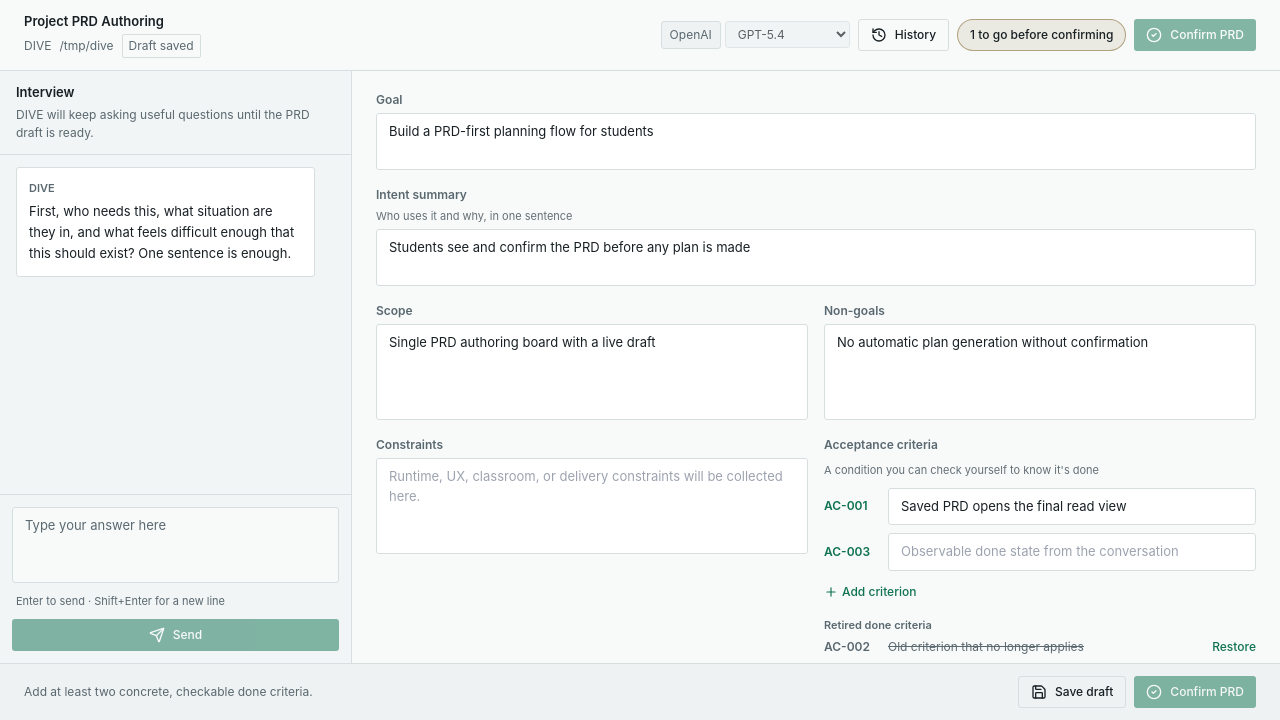
Test: PrdAuthoringBoard › retired acceptance criteria (S-074 review A) › restores a retired criterion through the student-edit path and satisfies the gate
Click the button with test id "prd-restore-criterion-AC-002". click: (1234, 647)
box: left=1212, top=638, right=1256, bottom=656
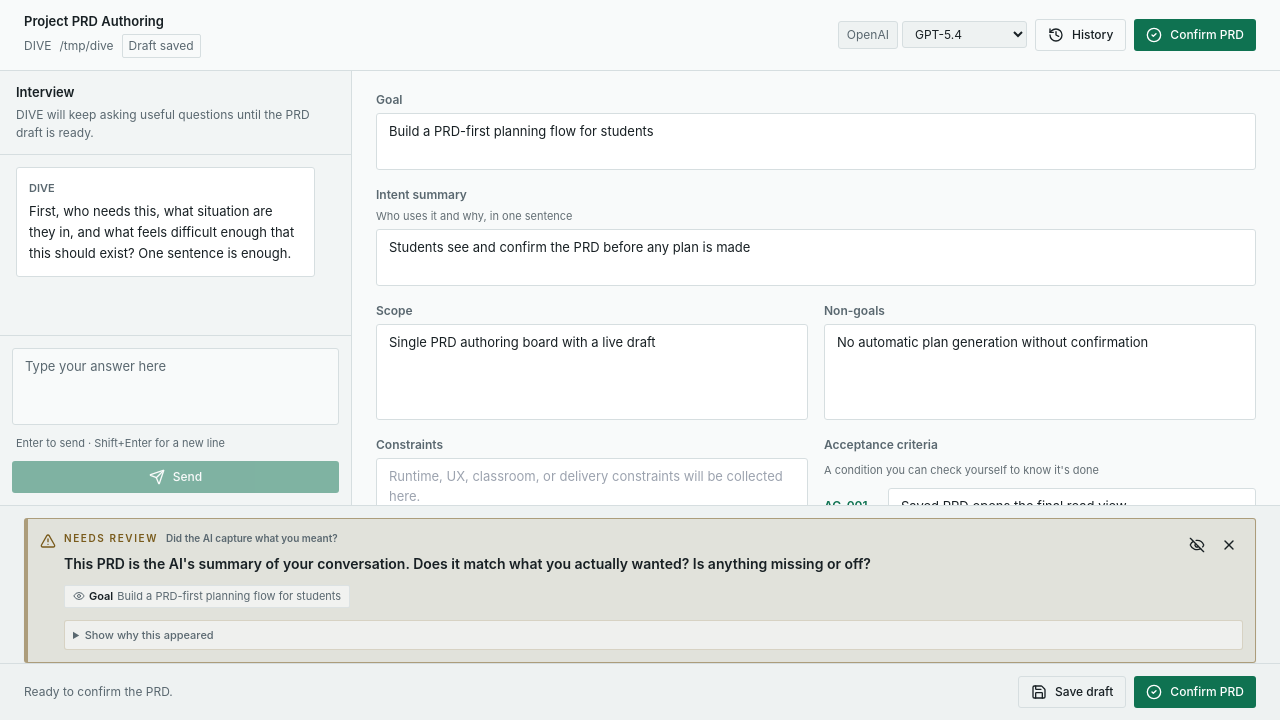
Expected: the element with test id "prd-retired-criteria" is gone
Expected: the button with test id "prd-confirm-remaining" is gone
Expected: the button with test id "prd-confirm-header" is enabled, left=1134, top=19, right=1256, bottom=51
